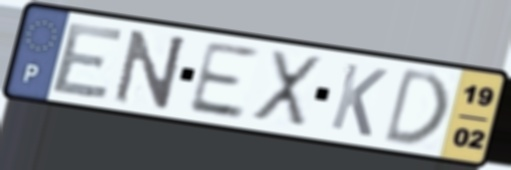D: (380, 65, 452, 147)
E: (47, 20, 128, 101), (184, 38, 262, 122)
K: (326, 59, 391, 140)
N: (110, 26, 190, 111)
X: (247, 47, 325, 132)
